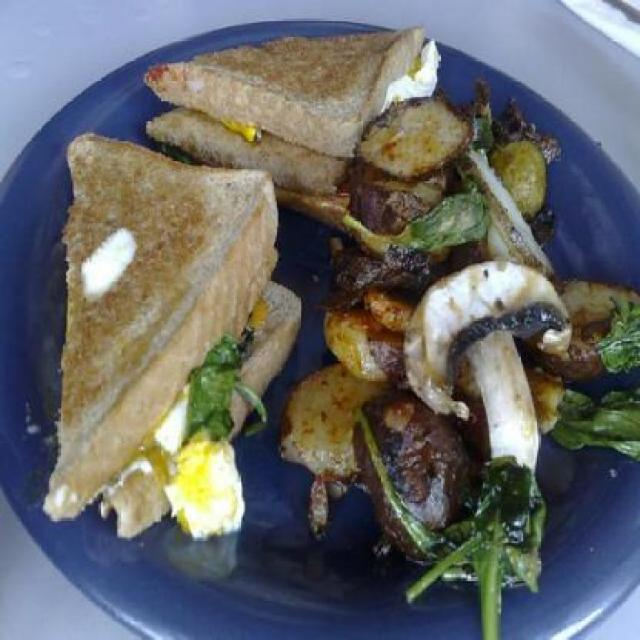Sandwich: (42, 133, 304, 541), (144, 24, 426, 202)
